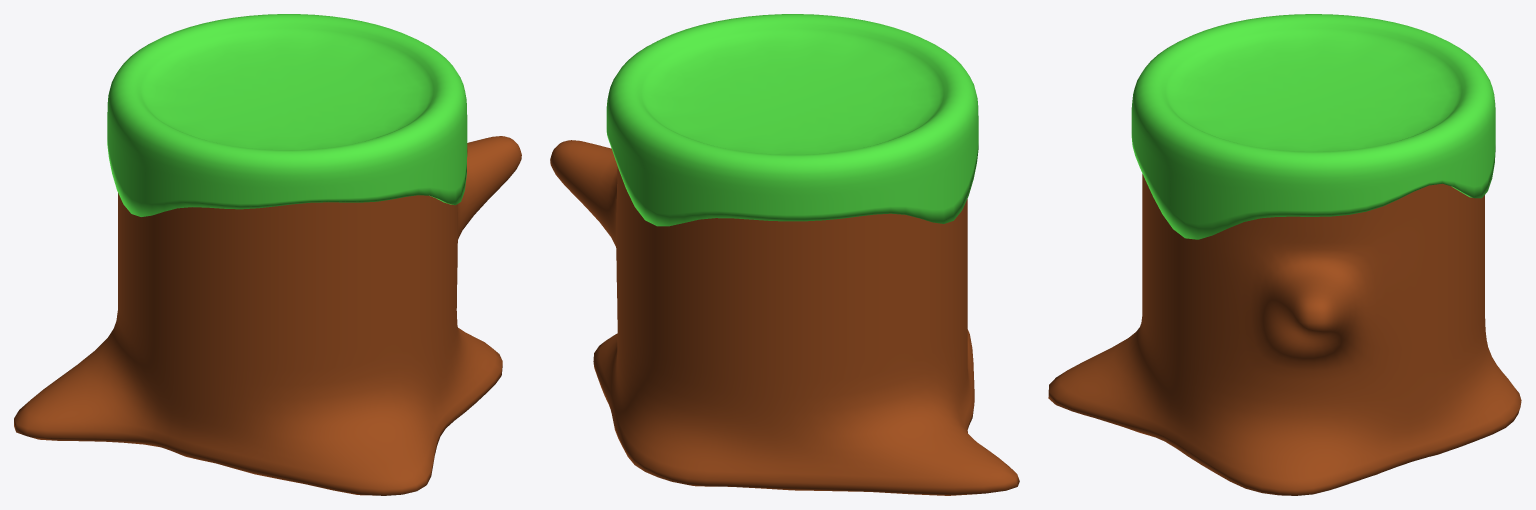
3 renders of one model, left to right at view 1: azimuth 30°, elevation 25°; view 2: azimuth 150°, elevation 25°; view 3: azimuth 270°, elevation 25°, orthographic. The views are drawn at different scales.
Visible parts, largest first — view 1: Cylinder; view 2: Cylinder; view 3: Cylinder.
Part boxes in pixels (x1,y1,x2,y2): Cylinder: [14, 14, 521, 495]; Cylinder: [550, 14, 1019, 495]; Cylinder: [1048, 14, 1521, 495].
Bounding box in the file's own units: 3.16 × 2.06 × 2.69.
